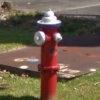Hydrant: (28, 5, 70, 97)
